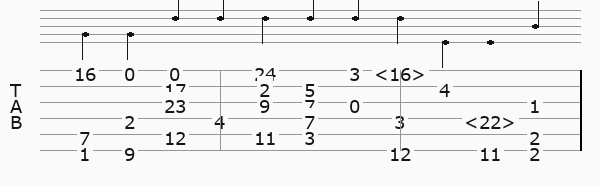0: (124, 62, 139, 79), (169, 62, 184, 79), (349, 94, 364, 111)
1: (79, 142, 94, 159), (529, 94, 544, 111)
11: (254, 126, 280, 143), (479, 142, 505, 159)
12: (164, 126, 190, 143), (389, 142, 415, 159)
16: (74, 62, 100, 79)
17: (164, 78, 190, 95)
2: (124, 110, 139, 127), (259, 78, 274, 95), (529, 142, 544, 159), (529, 126, 544, 143)
23: (164, 94, 190, 111)
24: (254, 62, 280, 79)
3: (304, 126, 319, 143), (349, 62, 364, 79), (394, 110, 409, 127)
4: (214, 110, 229, 127), (439, 78, 454, 95)
5: (304, 78, 319, 95)
7: (79, 126, 94, 143), (304, 94, 319, 111), (304, 110, 319, 127)
9: (124, 142, 139, 159), (259, 94, 274, 111)
harmonic: (374, 62, 430, 79), (464, 110, 520, 127)
